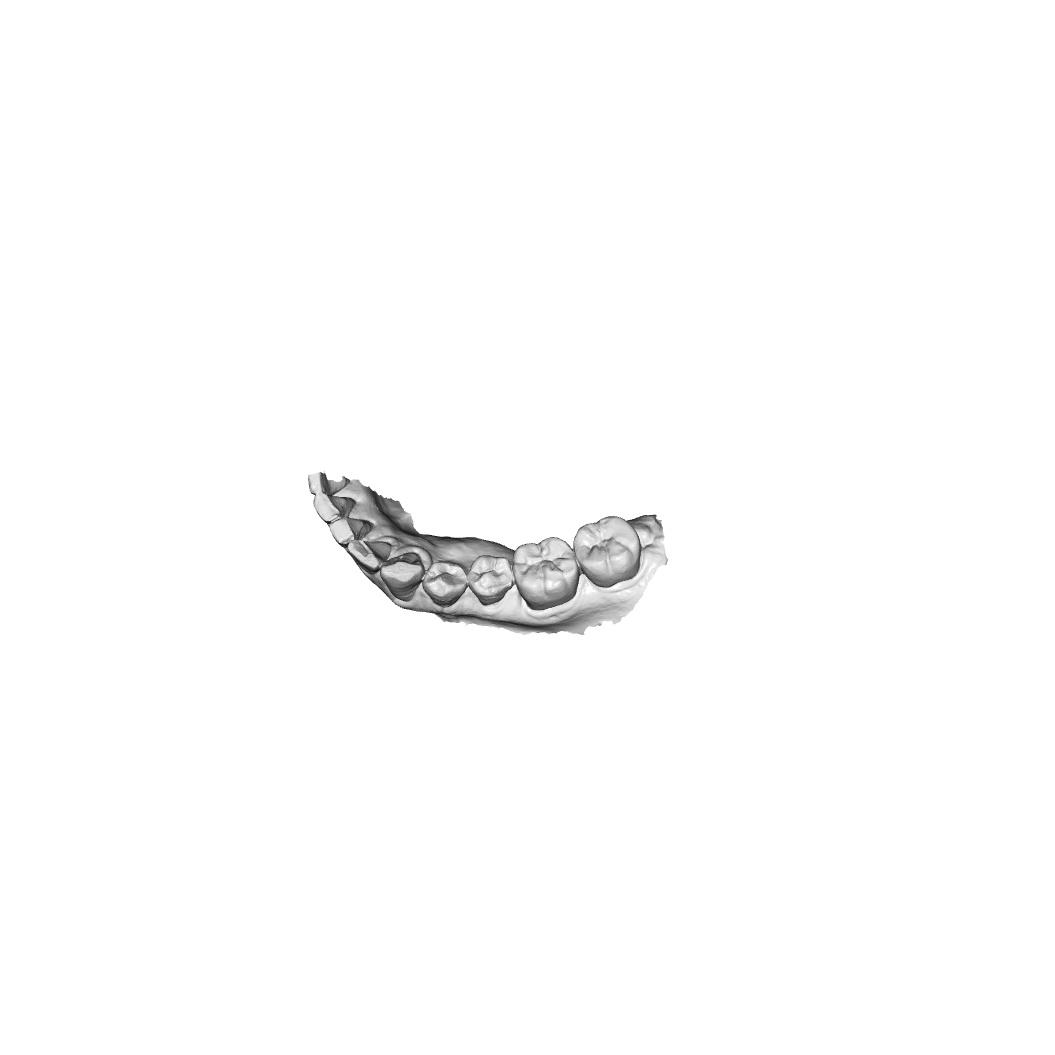canine: (378, 552, 426, 603)
incisor: (345, 536, 393, 575), (327, 516, 374, 548), (312, 491, 357, 524), (307, 471, 351, 496)
molar: (573, 514, 642, 590), (512, 535, 580, 611)
premolar: (467, 553, 513, 607), (422, 560, 468, 608)
